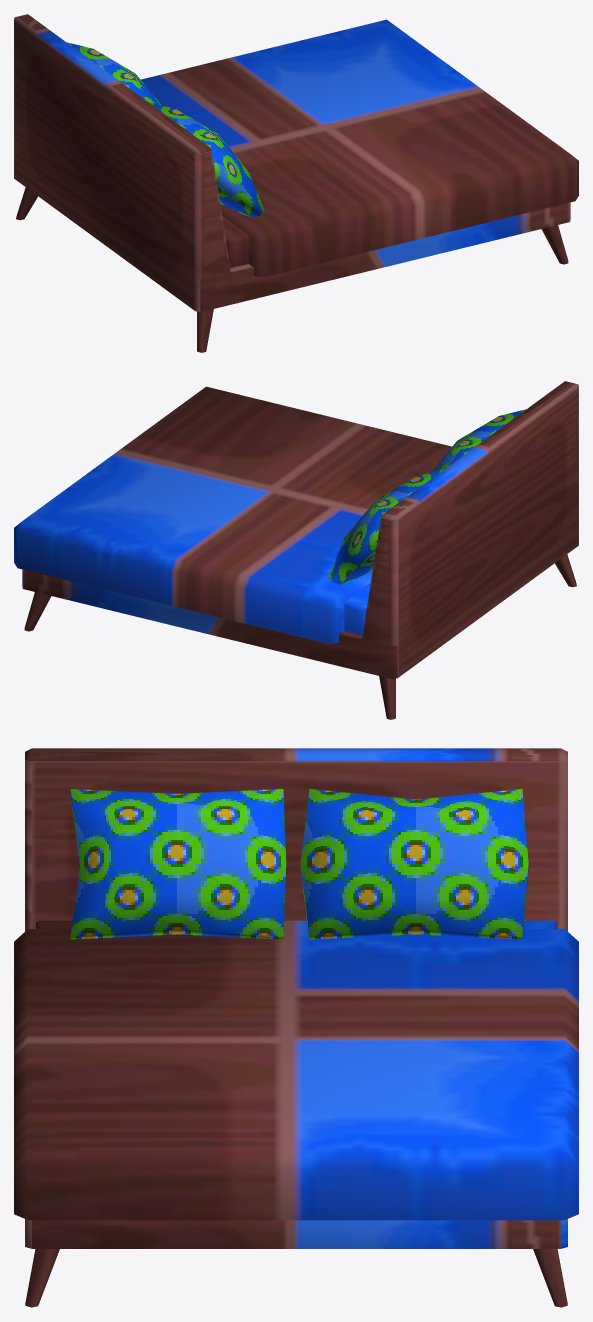
The model's file is int_grf_bedW.dae.
3 views of the same model, one above another, from view 1: azimuth 30°, elevation 25°; view 2: azimuth 150°, elevation 25°; view 3: azimuth 270°, elevation 25° (orthographic). The views are drawn at different scales.
Visible parts, largest first — view 1: int_grf_bedW; view 2: int_grf_bedW; view 3: int_grf_bedW.
Boxes of the visible parts, left/top/right/bottom form: int_grf_bedW: left=14, top=14, right=578, bottom=352; int_grf_bedW: left=14, top=381, right=578, bottom=719; int_grf_bedW: left=14, top=748, right=578, bottom=1307.
Bounding box in the file's own units: 59.37 × 30 × 52.01.
2 materials, 2 textured.
